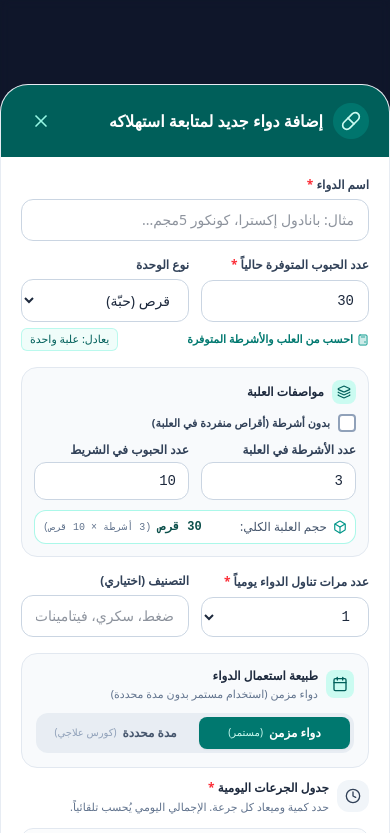
it: AddMedicationModal — multi-dose schedule › changing dosesPerDay from 1 → 3 creates three rows
The width and height of the screenshot is (390, 833).
Select "3" in the dropdown below "عدد مرات تناول الدواء يومياً": (285, 617) [201,597,369,637]
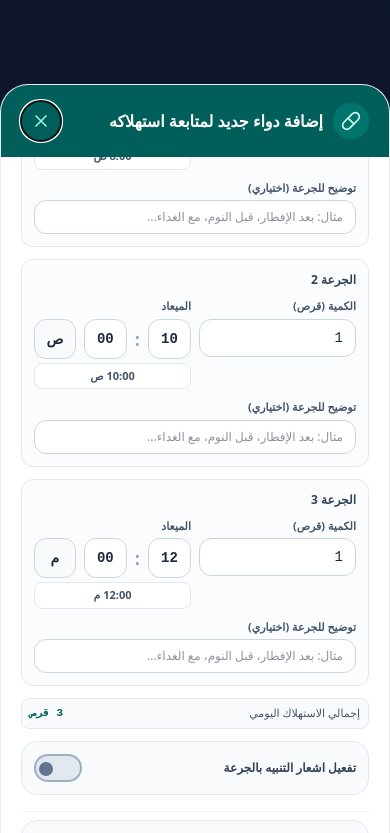
Expected: the text "الجرعة 2" is shown, [311,271,356,288]
Expected: the text "الجرعة 3" is shown, [311,491,356,508]
